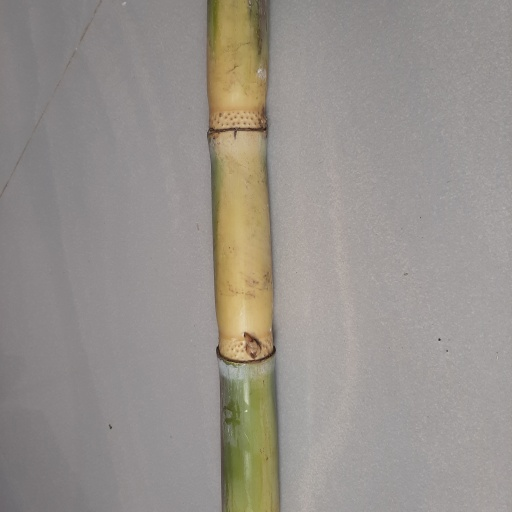Bud: (242, 332, 263, 360)
